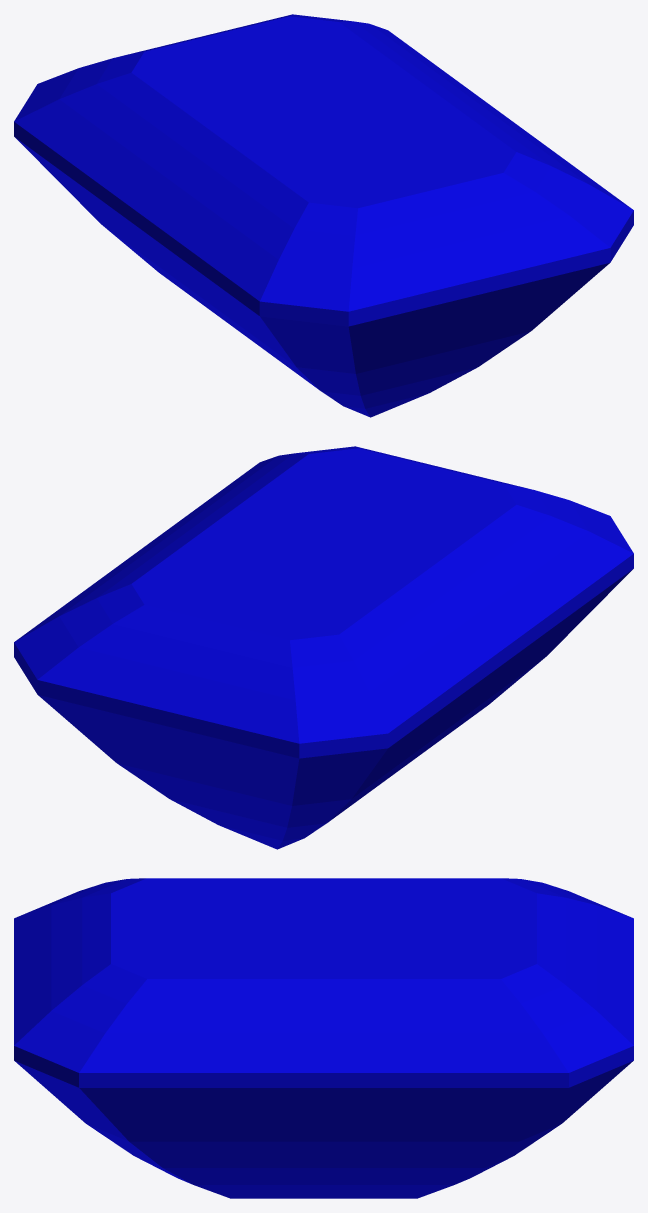
The model's file is Head_Single Halo_Emerald_1.5ct_Diamond.glb.
3 views of the same model, one above another, from view 1: azimuth 30°, elevation 25°; view 2: azimuth 150°, elevation 25°; view 3: azimuth 270°, elevation 25° (orthographic).
Size of the model in its own units: 0.0054 by 0.00374 by 0.00778.
